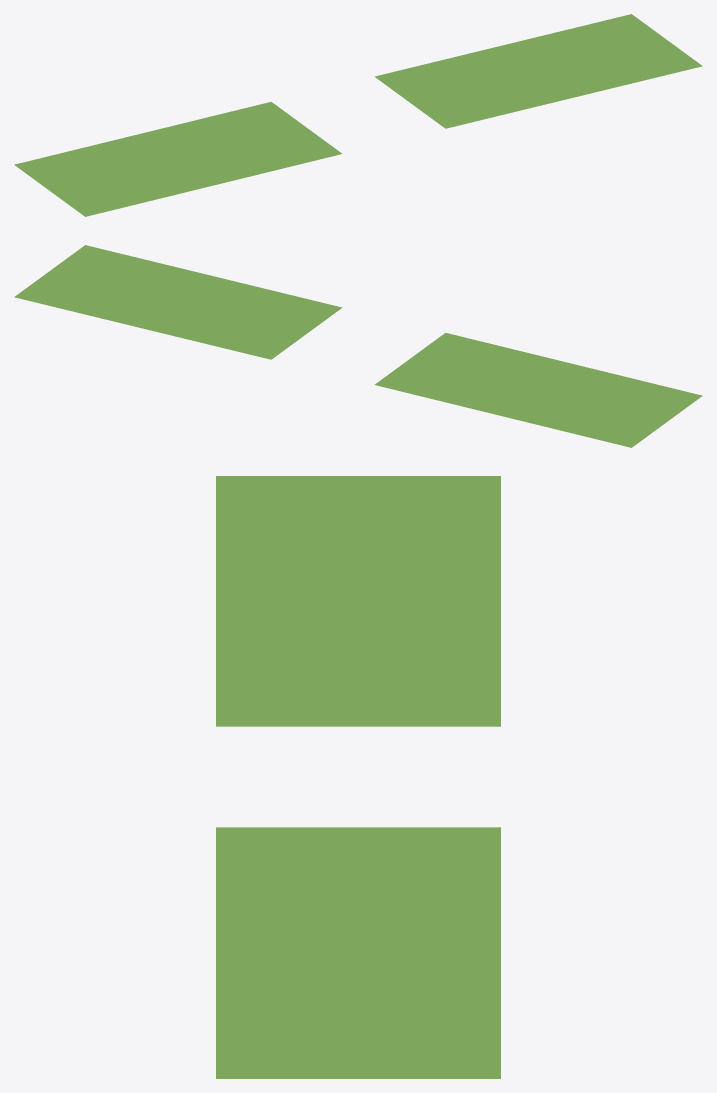
File: shoulder.glb
3 renders of one model, top to bottom at view 1: azimuth 30°, elevation 25°; view 2: azimuth 150°, elevation 25°; view 3: azimuth 270°, elevation 25°, orthographic. The views are drawn at different scales.
Visible parts, largest first — view 1: RF_Shoulder_Module_Asset; view 2: RF_Shoulder_Module_Asset; view 3: RF_Shoulder_Module_Asset.
Boxes of the visible parts, x1,y1,x2,y2 form: RF_Shoulder_Module_Asset: (14,14,702,216); RF_Shoulder_Module_Asset: (14,245,702,447); RF_Shoulder_Module_Asset: (216,476,500,1078).
Size of the model in its own units: 60 by 0.02 by 12.
